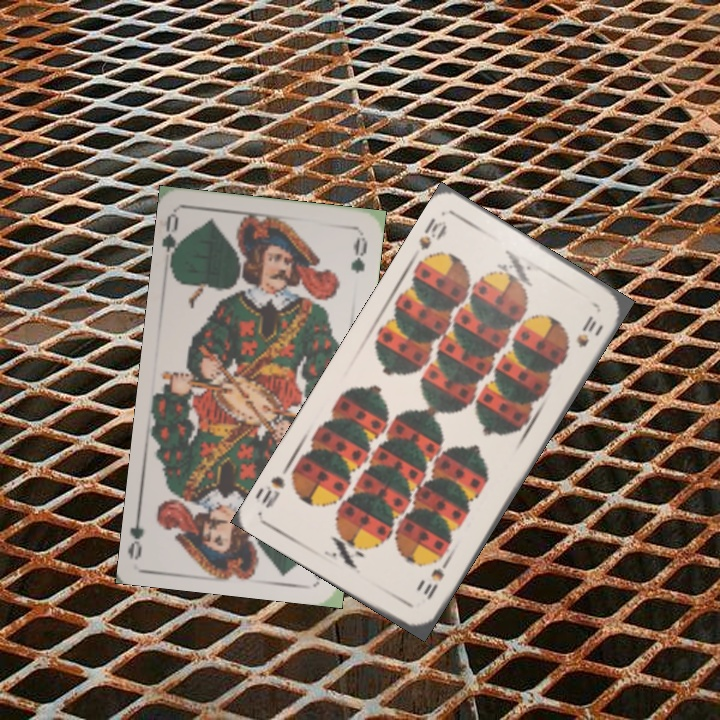GO: (160, 211, 188, 271)
S10: (407, 213, 450, 264), (419, 555, 452, 603)
